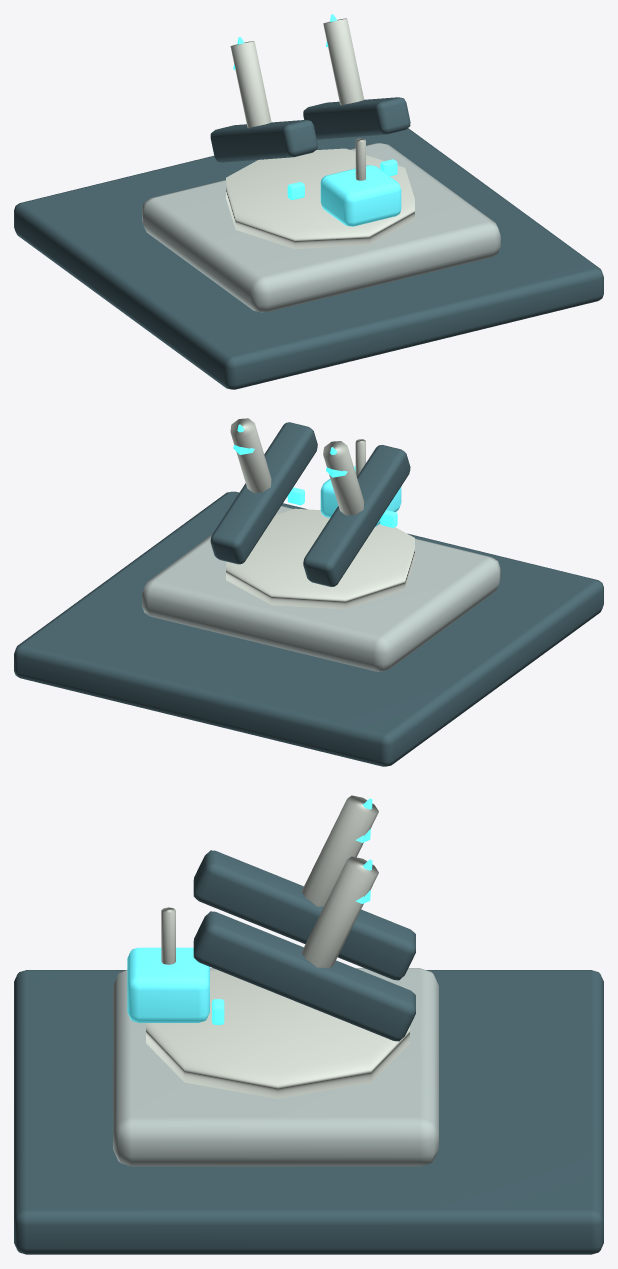
File: vesper-sam.glb
3 views of the same model, one above another, from view 1: azimuth 30°, elevation 25°; view 2: azimuth 150°, elevation 25°; view 3: azimuth 270°, elevation 25° (orthographic). The views are drawn at different scales.
Visible parts, largest first — view 1: SAM installation foundation, Launch vehicle chassis, Launcher rotation ring, SAM target sensor, SAM missile rail, SAM missile rail.001, Vesper missile, Vesper missile.001; view 2: SAM installation foundation, Launch vehicle chassis, Launcher rotation ring, SAM missile rail.001, SAM missile rail, Vesper missile.001, Vesper missile, SAM target sensor; view 3: SAM installation foundation, Launch vehicle chassis, Launcher rotation ring, SAM missile rail.001, SAM missile rail, SAM target sensor, Vesper missile.001, Vesper missile, SAM sensor antenna.
Boxes of the visible parts, x1,y1,x2,y2 form: SAM installation foundation: (14,128,603,389); Launch vehicle chassis: (142,143,500,312); Launcher rotation ring: (226,148,414,249); SAM target sensor: (320,165,401,226); SAM missile rail: (210,120,317,162); SAM missile rail.001: (303,97,410,139); Vesper missile: (230,41,271,128); Vesper missile.001: (323,18,364,105); SAM installation foundation: (14,491,603,766); Launch vehicle chassis: (142,506,500,671); Launcher rotation ring: (226,508,414,609); SAM missile rail.001: (210,422,317,564); SAM missile rail: (303,445,410,586); Vesper missile.001: (230,418,271,492); Vesper missile: (323,441,364,515); SAM target sensor: (320,466,401,526); SAM installation foundation: (14,970,603,1254); Launch vehicle chassis: (113,968,438,1166); Launcher rotation ring: (146,970,409,1098); SAM missile rail.001: (193,911,415,1041); SAM missile rail: (193,850,415,980); SAM target sensor: (127,947,209,1022); Vesper missile.001: (301,856,378,968); Vesper missile: (301,795,378,906); SAM sensor antenna: (161,907,175,964).
Size of the model in its own units: 2.86 by 1.63 by 2.86.
